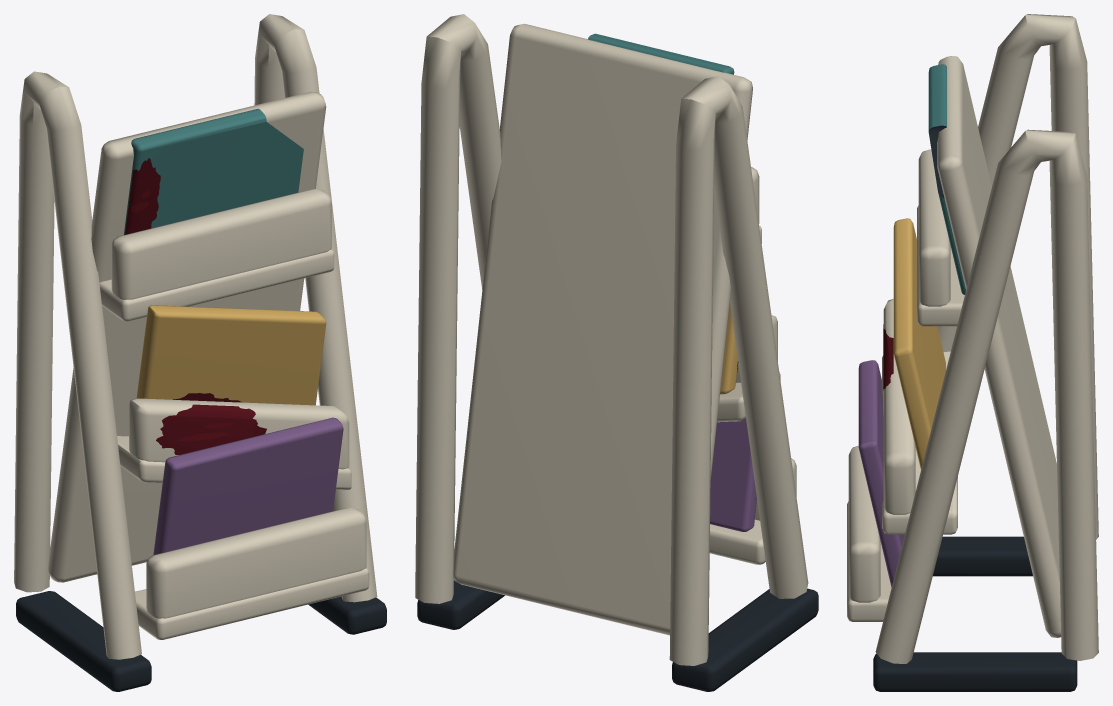
File: magazine_rack.glb
3 renders of one model, left to right at view 1: azimuth 30°, elevation 25°; view 2: azimuth 150°, elevation 25°; view 3: azimuth 270°, elevation 25°, orthographic. The views are drawn at different scales.
Visible parts, largest first — view 1: magazine_rack_Outbreak_Static; view 2: magazine_rack_Outbreak_Static; view 3: magazine_rack_Outbreak_Static.
Boxes of the visible parts, left/top/right/bottom form: magazine_rack_Outbreak_Static: left=14, top=14, right=386, bottom=691; magazine_rack_Outbreak_Static: left=415, top=14, right=818, bottom=691; magazine_rack_Outbreak_Static: left=847, top=14, right=1098, bottom=691.
Bounding box in the file's own units: 0.55 × 1.05 × 0.432.
Materials: 7 (1 with a texture image).
